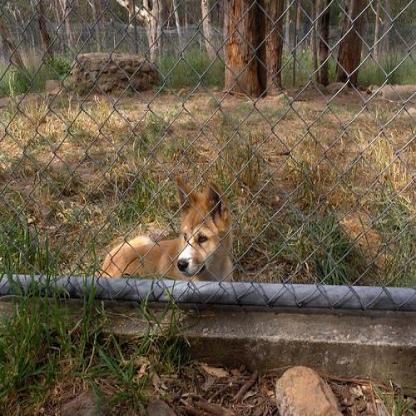dingo: (99, 173, 235, 281)
